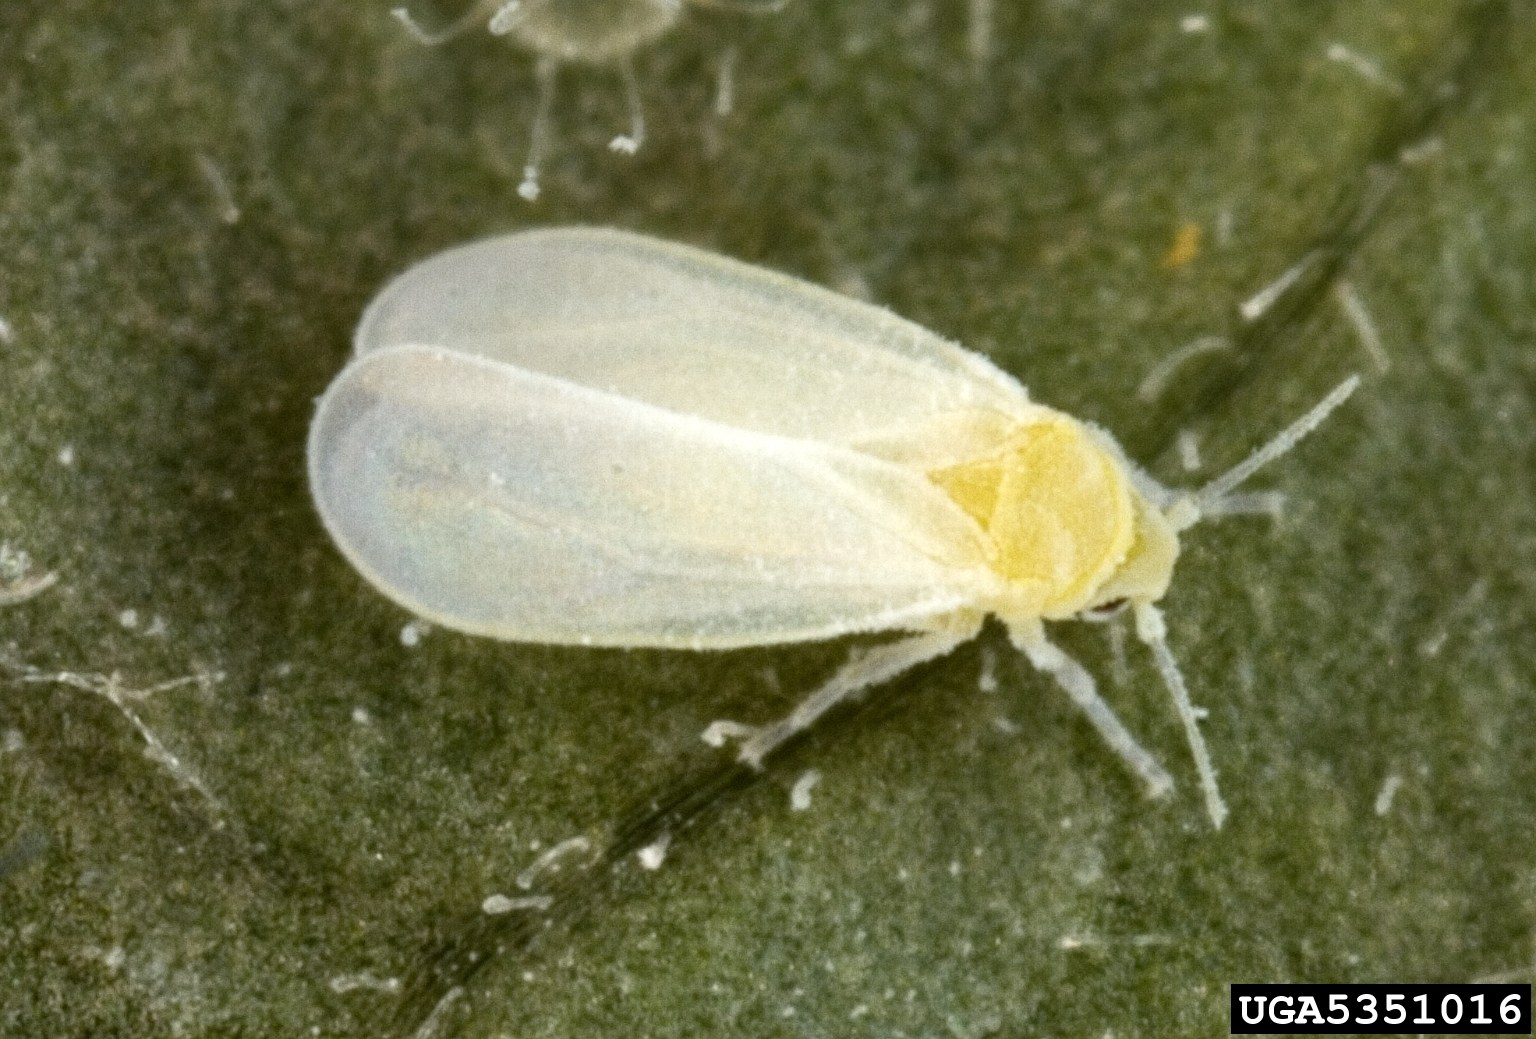Tobacco Whitefly: (248, 165, 1275, 839)
